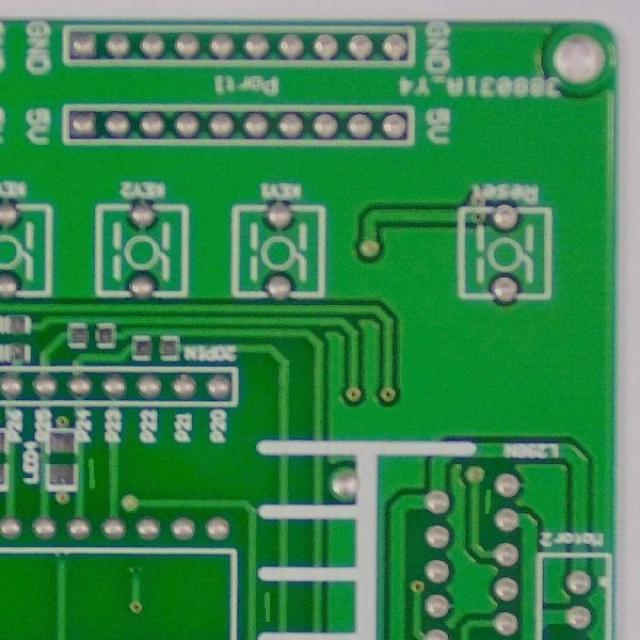Spurious_Cooper: (258, 586, 276, 628), (85, 454, 100, 494), (482, 486, 494, 518)
